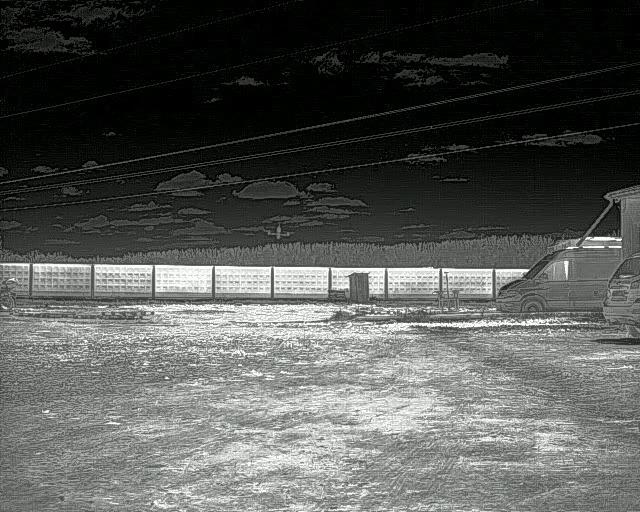drone-thermal: (262, 224, 297, 240)
